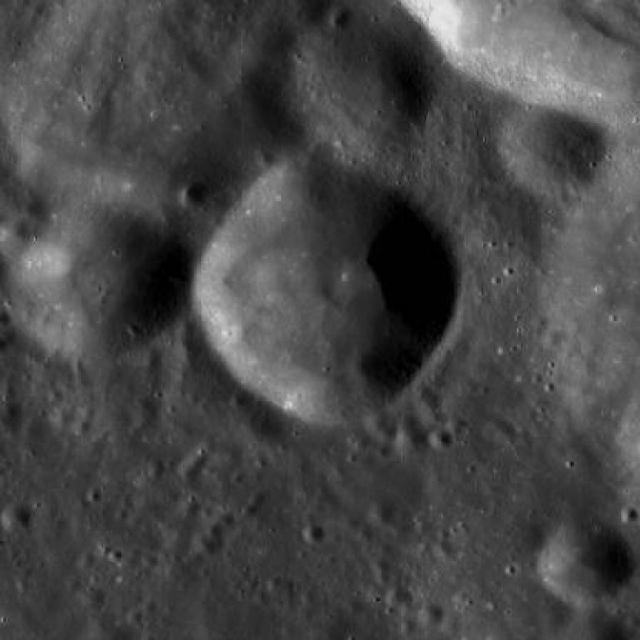crater: (13, 0, 352, 251), (192, 164, 460, 418), (9, 195, 191, 368), (288, 18, 436, 158), (496, 93, 610, 199), (453, 184, 550, 276), (540, 518, 636, 608), (242, 12, 302, 70), (394, 414, 437, 456), (0, 219, 34, 259), (540, 598, 574, 630), (191, 528, 224, 560), (180, 179, 212, 210), (0, 398, 26, 434), (20, 411, 52, 440), (1, 504, 32, 533), (364, 408, 394, 437), (366, 498, 396, 526), (412, 385, 441, 413), (132, 404, 160, 430), (489, 416, 517, 442), (176, 335, 202, 360), (328, 4, 354, 28), (177, 458, 203, 482), (418, 604, 444, 628), (53, 404, 78, 428), (82, 588, 106, 610), (420, 409, 443, 431), (430, 428, 453, 450), (178, 496, 200, 518), (304, 524, 326, 544), (340, 512, 362, 532), (180, 316, 200, 336), (386, 586, 406, 606), (378, 423, 398, 443), (206, 519, 226, 538), (22, 198, 42, 216), (256, 152, 276, 170), (72, 417, 92, 435), (146, 460, 166, 478), (217, 510, 237, 528), (447, 415, 467, 433), (189, 448, 208, 466), (545, 330, 564, 348), (78, 550, 97, 568), (143, 350, 162, 367), (620, 506, 640, 522), (532, 312, 550, 328), (436, 538, 452, 556), (0, 308, 14, 328)
